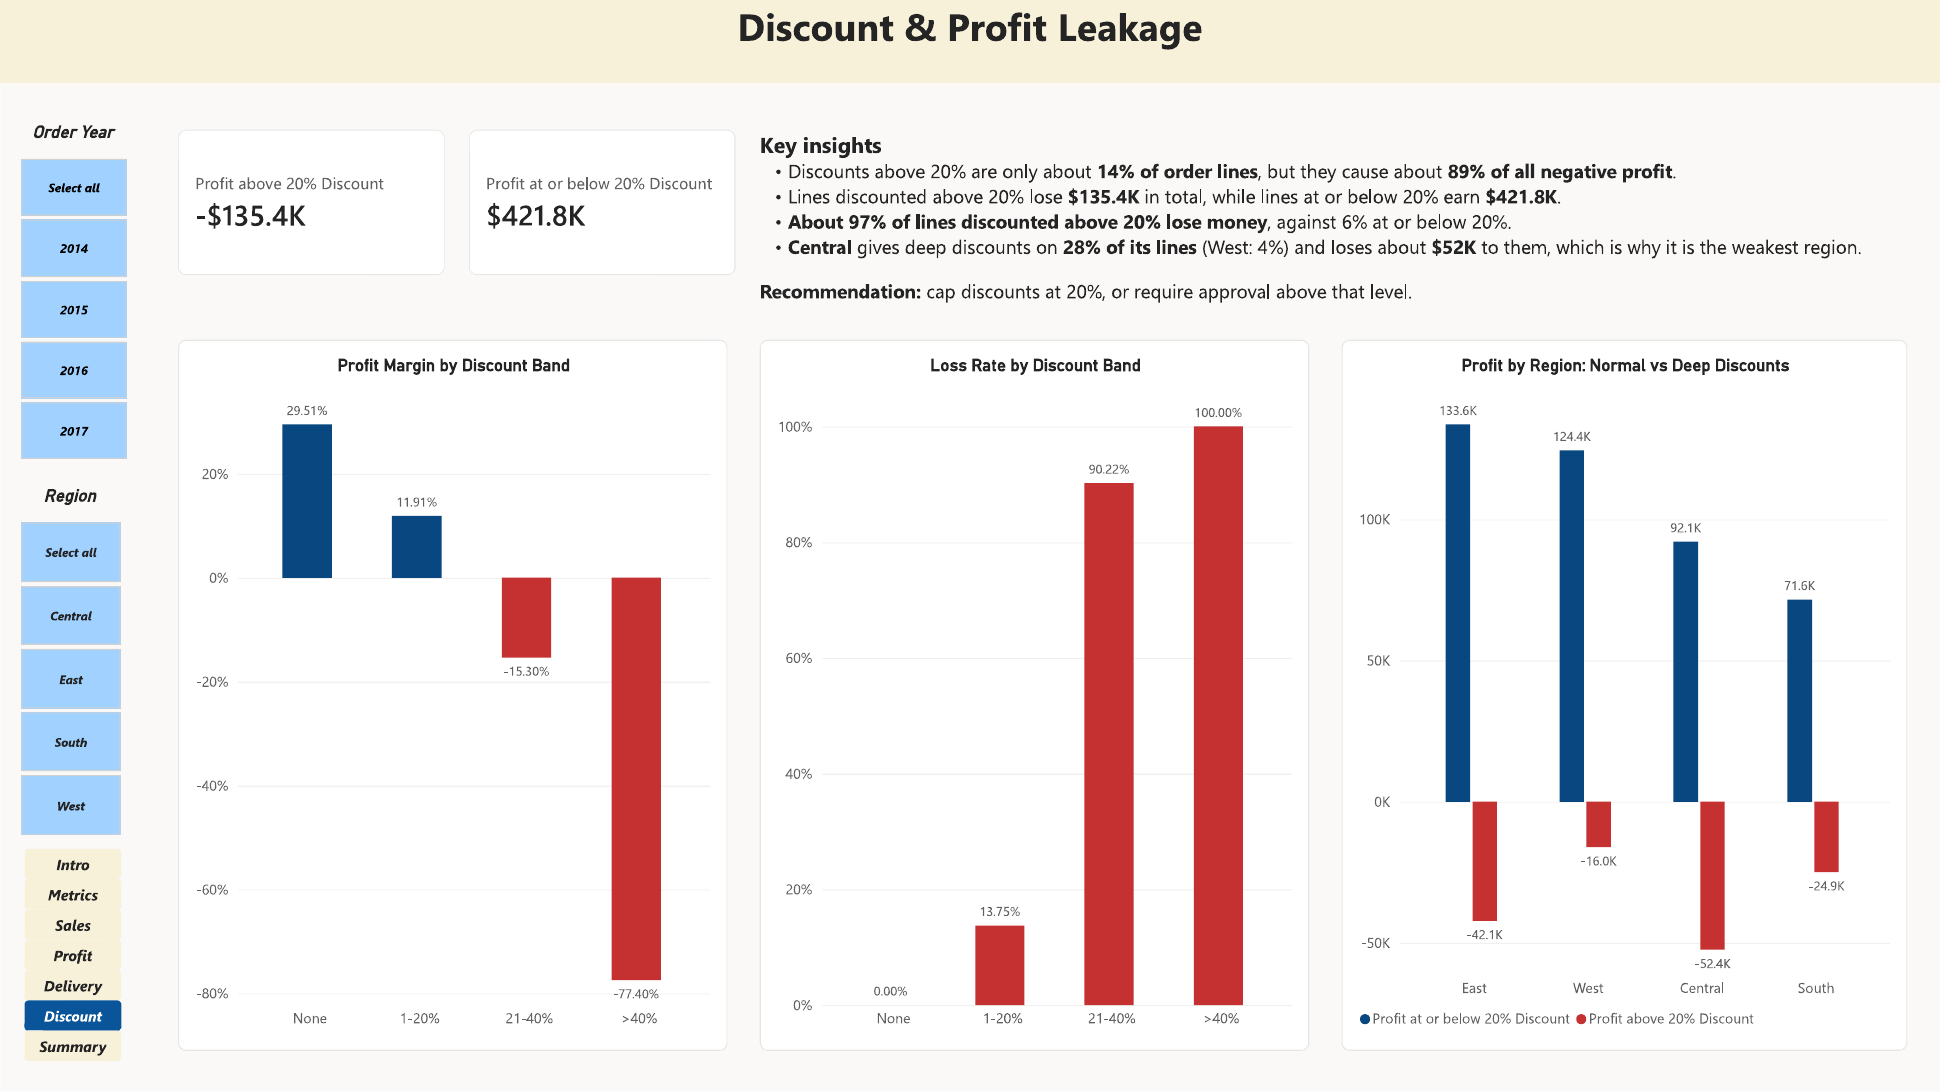

The page's visual inventory and layout, read from the dashboard file:
{"tool":"powerbi","page":{"name":"Discount","canvas":[1920,1080],"ordinal":5},"visuals":[{"type":"textbox","box":[0,0,1920.4,82.3],"z":0},{"type":"cardVisual","fields":{"Data":["Superstore.Profit above 20% Discount"]},"box":[176,128,264,144],"z":3000},{"type":"cardVisual","fields":{"Data":["Superstore.Profit at or below 20% Discount"]},"box":[464,128,264,144],"z":4000},{"type":"clusteredColumnChart","title":"Profit Margin by Discount Band","fields":{"Category":["Superstore.DiscountBand"],"Y":["Superstore.Profit Margin"]},"box":[176,336,544,704],"z":5000},{"type":"clusteredColumnChart","title":"Loss Rate by Discount Band","fields":{"Category":["Superstore.DiscountBand"],"Y":["Superstore.Loss Rate"]},"box":[752,336,544,704],"z":6000},{"type":"clusteredColumnChart","title":"Profit by Region: Normal vs Deep Discounts","fields":{"Category":["Superstore.Region"],"Y":["Superstore.Profit at or below 20% Discount","Superstore.Profit above 20% Discount"]},"box":[1328,336,560,704],"z":7000},{"type":"textbox","box":[752,128,1136,192],"z":8000},{"type":"pageNavigator","box":[24,840,96,216],"z":8001},{"type":"slicer","title":"Order Year","fields":{"Values":["Superstore.OrderYear"]},"box":[0,120,144,336],"z":8002},{"type":"slicer","title":"Region","fields":{"Values":["Superstore.Region"]},"box":[0,480,137.9,347.9],"z":8003}]}

Visuals, with their boxes in screenshot pixels (x1, y1, x2, y2), scaled from the page's 1920x1080 canvas onto the 1940x1092 screenshot:
textbox: [left=0, top=0, right=1939, bottom=83]
cardVisual - Superstore.Profit above 20% Discount: [left=178, top=129, right=445, bottom=275]
cardVisual - Superstore.Profit at or below 20% Discount: [left=469, top=129, right=736, bottom=275]
"Profit Margin by Discount Band" clusteredColumnChart: [left=178, top=340, right=728, bottom=1052]
"Loss Rate by Discount Band" clusteredColumnChart: [left=760, top=340, right=1310, bottom=1052]
"Profit by Region: Normal vs Deep Discounts" clusteredColumnChart: [left=1342, top=340, right=1908, bottom=1052]
textbox: [left=760, top=129, right=1908, bottom=324]
pageNavigator: [left=24, top=849, right=121, bottom=1068]
"Order Year" slicer: [left=0, top=121, right=146, bottom=461]
"Region" slicer: [left=0, top=485, right=139, bottom=837]
